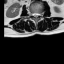CCS_normal: (35, 11, 37, 19)
LFS_normal: (39, 10, 41, 18)
LLS_normal: (37, 11, 39, 18)
RFS_normal: (30, 10, 33, 17)
RLS_normal: (33, 11, 35, 18)
